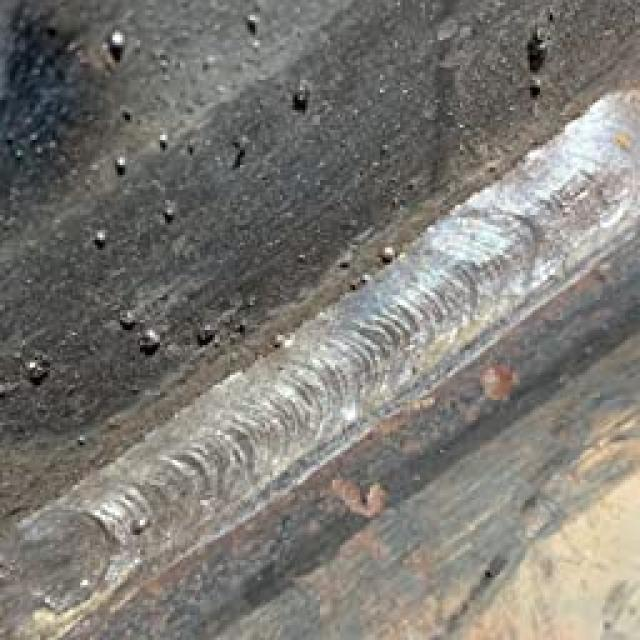Good Weld: (115, 405, 340, 500), (342, 280, 490, 400), (495, 167, 595, 295)
